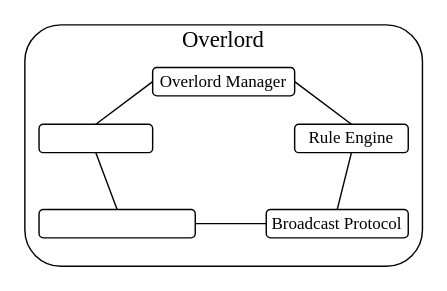
Some shapes in this 447 by 291 pixel diagram are drawn without their labels. Each missing label, with the centre of its shape:
"Membership Protocol" belongs at [116,223].
"MON-Collect" belongs at [95,138].
